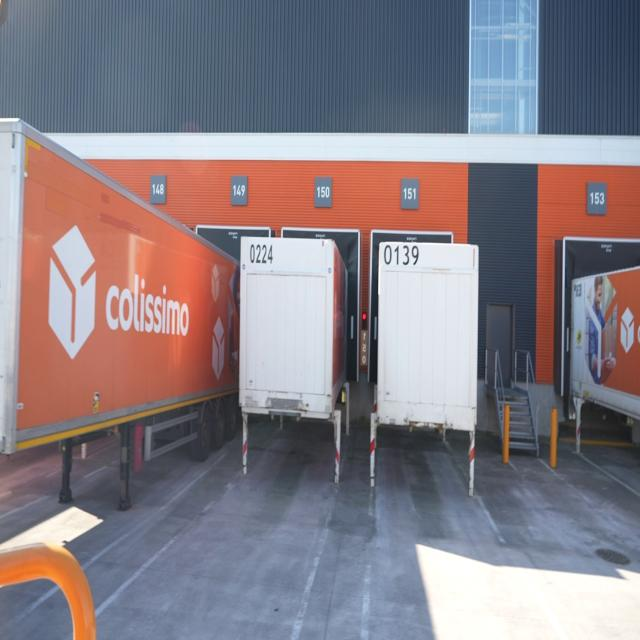Code: (382, 242, 420, 268), (248, 241, 277, 269)
